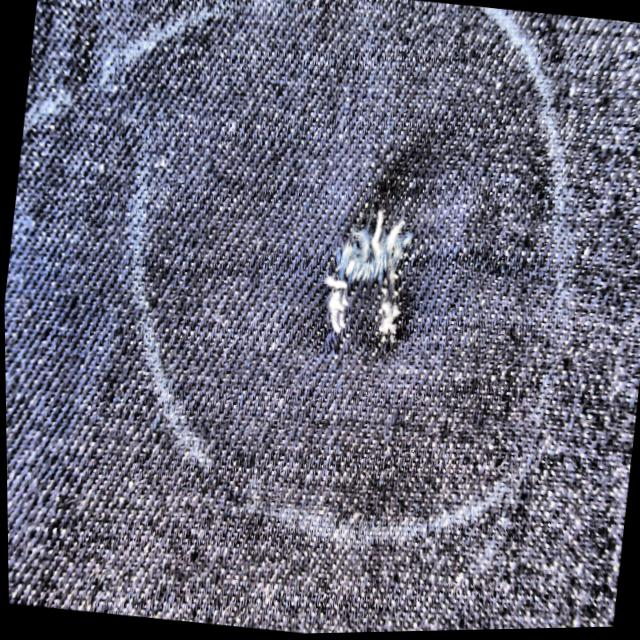Hole: (327, 211, 410, 354)
